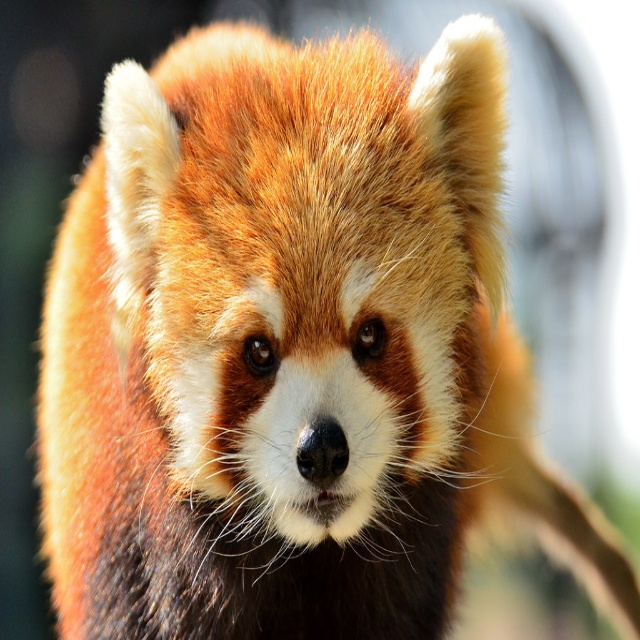Red panda: (29, 17, 640, 639)
